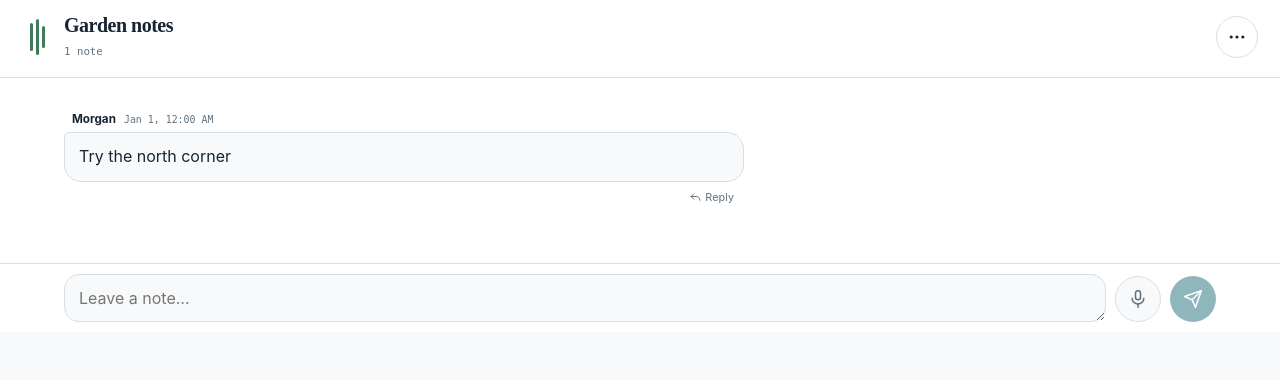
it: Conversation › surfaces a declined microphone to the person using it
The image size is (1280, 380).
Click the button named "Record a voice note": (1138,299) [1115,276,1161,322]
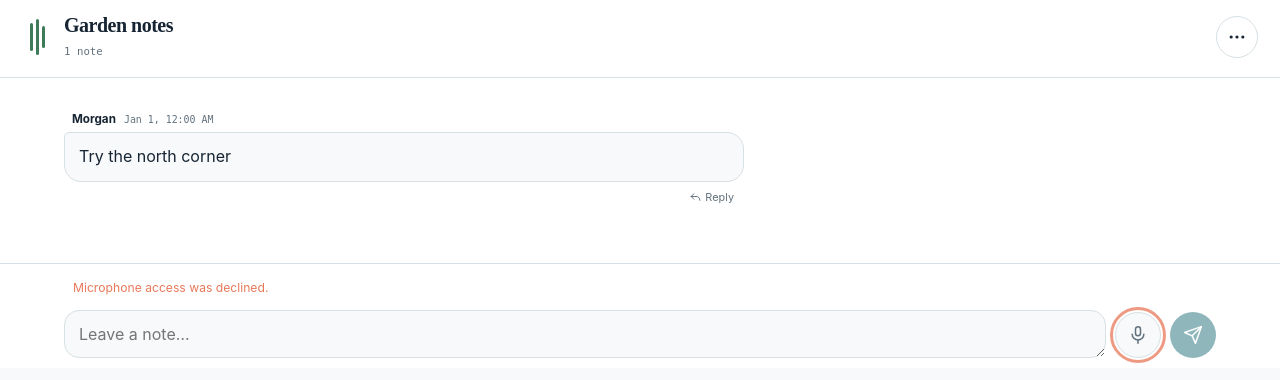
Expected: the message reads "Microphone access was declined.", [73,280,268,295]
